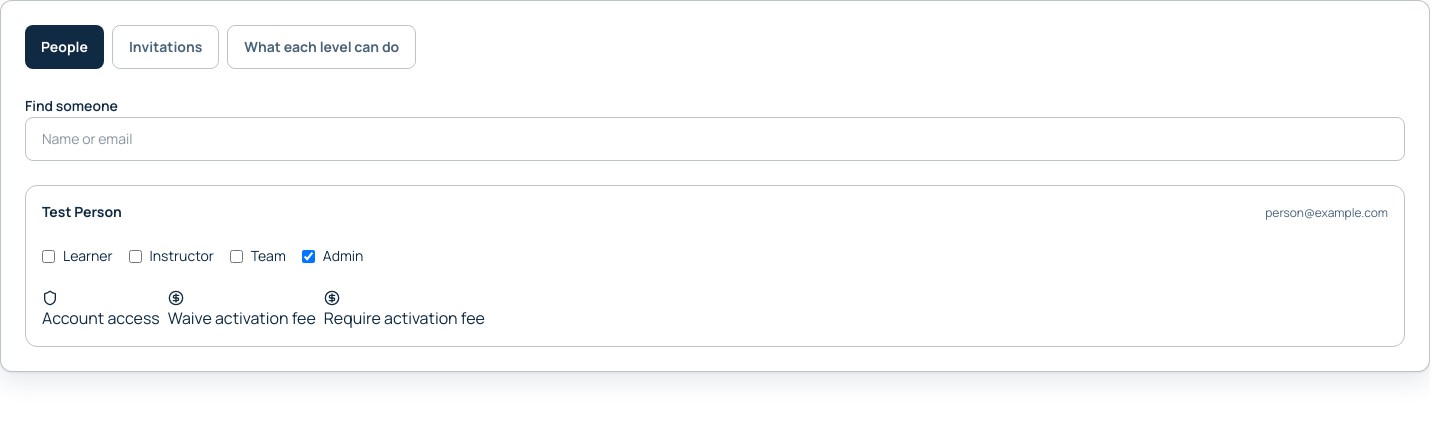
RoleManager › shows the database's own sentence when it refuses a change
Click the checkbox labelled "Admin": point(308, 256) [302,250,315,262]
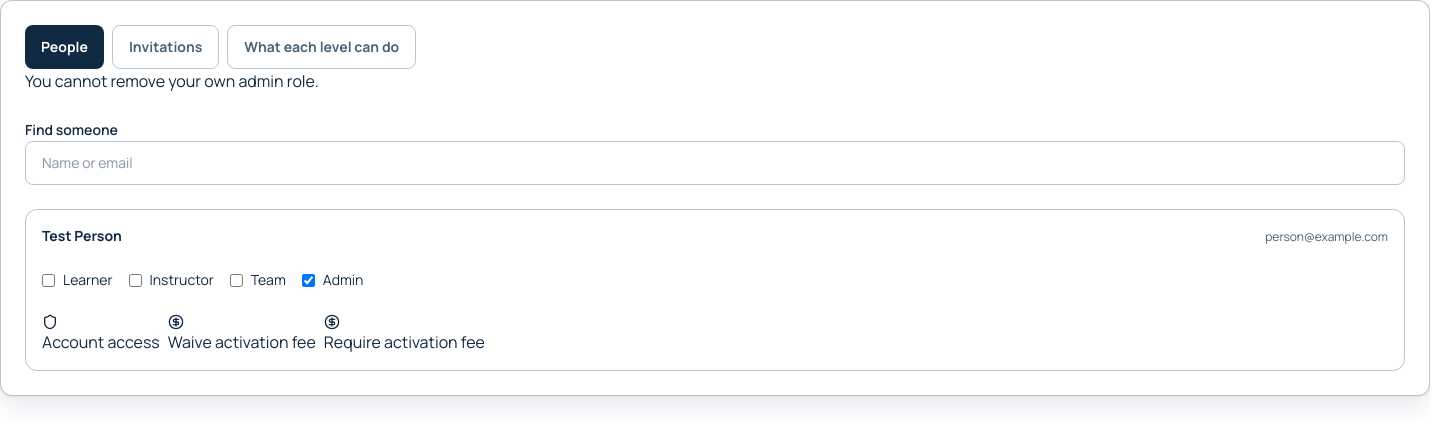
Now the message reads "You cannot remove your own admin role.", box [25,70,319,92]
